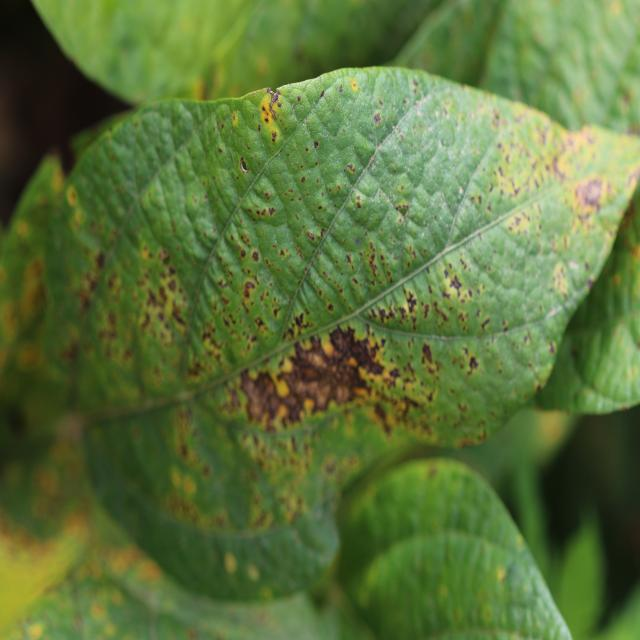Bacterial_Blight: (239, 360, 283, 432), (337, 326, 386, 380), (17, 257, 46, 320), (502, 206, 543, 247), (299, 370, 338, 411), (616, 189, 639, 244), (170, 465, 200, 502), (574, 176, 606, 210), (16, 340, 43, 371), (285, 311, 313, 340), (200, 326, 224, 359), (373, 401, 397, 429), (551, 262, 570, 296), (266, 88, 282, 118), (146, 285, 165, 310), (433, 302, 450, 325), (421, 343, 435, 368), (223, 552, 238, 575), (404, 289, 417, 313), (253, 205, 275, 219), (448, 273, 463, 293), (242, 280, 256, 300), (94, 249, 106, 271), (481, 604, 493, 623), (280, 356, 293, 373), (395, 204, 409, 218), (468, 355, 479, 371), (469, 194, 482, 206), (480, 317, 490, 331), (306, 230, 316, 242), (346, 163, 355, 174), (251, 250, 259, 262), (373, 113, 381, 125), (271, 130, 277, 142), (279, 249, 287, 258), (264, 191, 271, 201), (319, 88, 325, 99), (327, 303, 334, 312), (240, 249, 247, 258), (313, 140, 319, 149), (320, 228, 325, 238), (264, 115, 270, 123), (301, 176, 306, 184), (356, 201, 361, 209), (257, 123, 261, 133)
Soybean: (53, 68, 640, 599)
